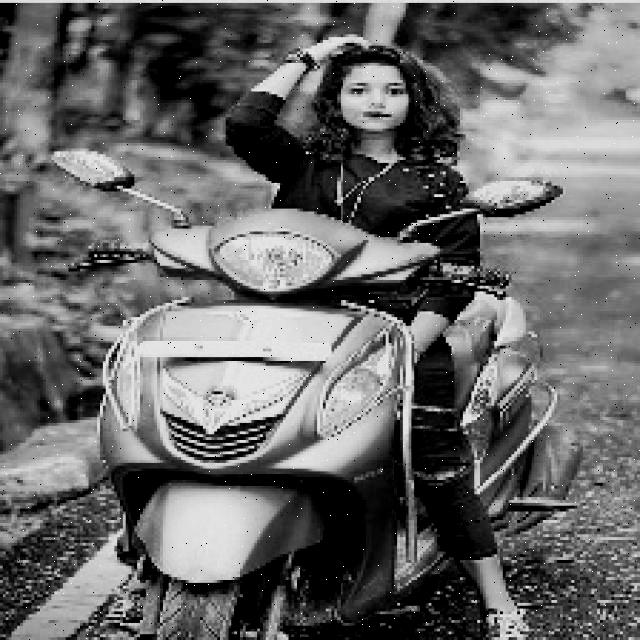Bike: (78, 213, 597, 639)
